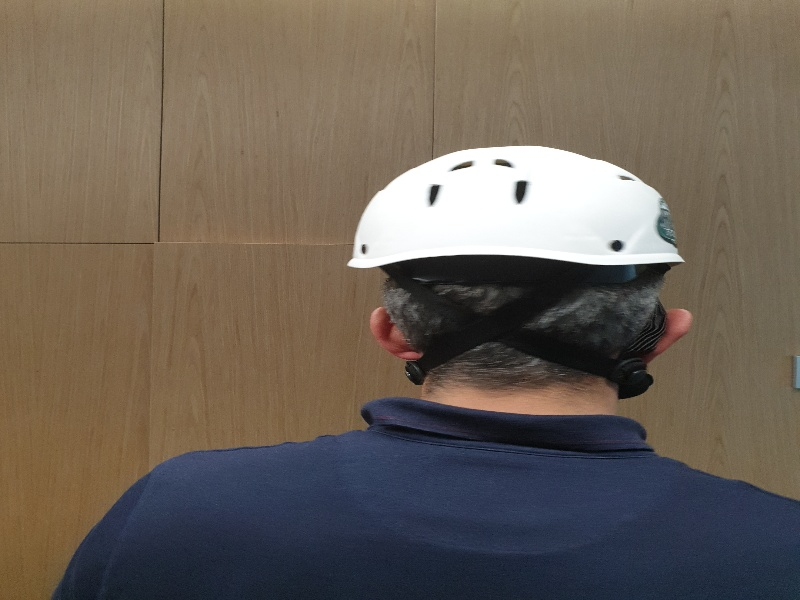Baret: (353, 152, 683, 269)
